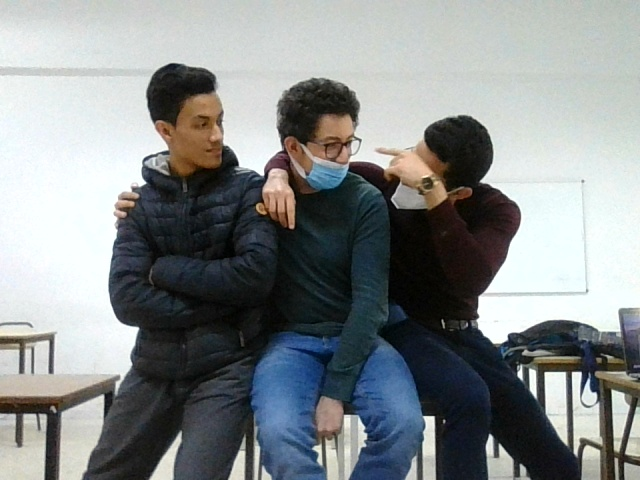mask_weared_incorrect: (279, 83, 359, 191)
without_mask: (146, 67, 233, 169)
